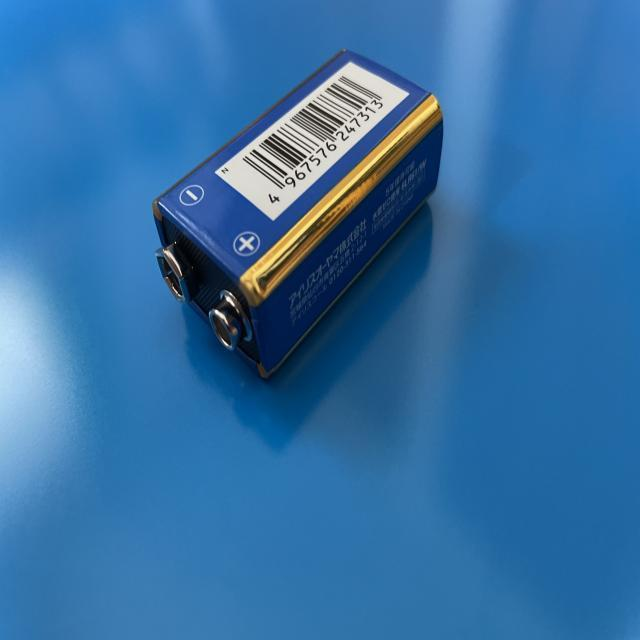9V: (153, 53, 445, 388)
